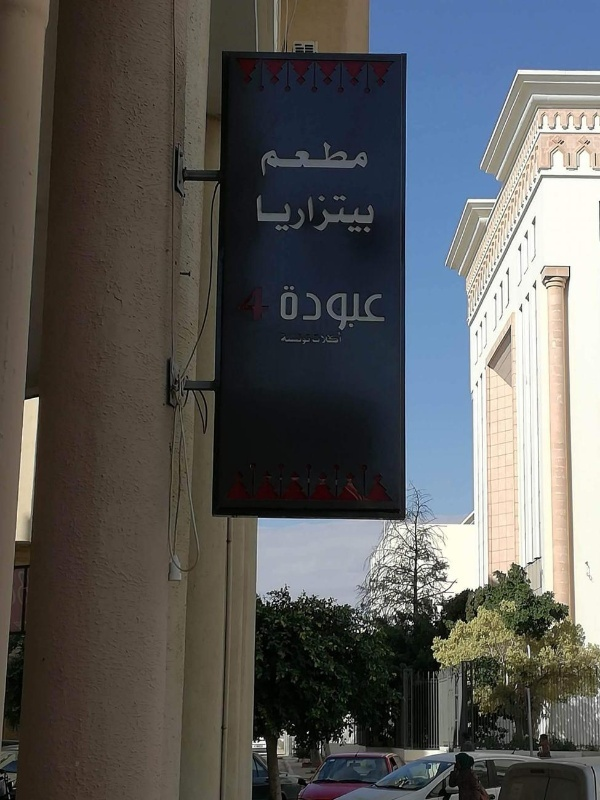text: (289, 284, 304, 332), (305, 284, 320, 332), (321, 284, 336, 332), (337, 284, 352, 332), (353, 284, 368, 332), (369, 284, 384, 332), (353, 138, 369, 180), (257, 284, 273, 324), (273, 138, 288, 180), (289, 138, 304, 180), (305, 138, 320, 180), (321, 138, 336, 180), (337, 138, 352, 180), (257, 193, 272, 233), (273, 193, 288, 233), (289, 193, 304, 233), (305, 193, 320, 233), (321, 193, 336, 233), (337, 193, 352, 233), (353, 193, 368, 233), (241, 284, 256, 324), (259, 138, 272, 180), (279, 284, 288, 332), (369, 193, 377, 233), (321, 332, 336, 346), (289, 333, 304, 344), (312, 332, 320, 346), (337, 332, 343, 346), (281, 333, 288, 344), (305, 333, 311, 344), (385, 284, 386, 332), (255, 193, 256, 233), (239, 284, 240, 324)
